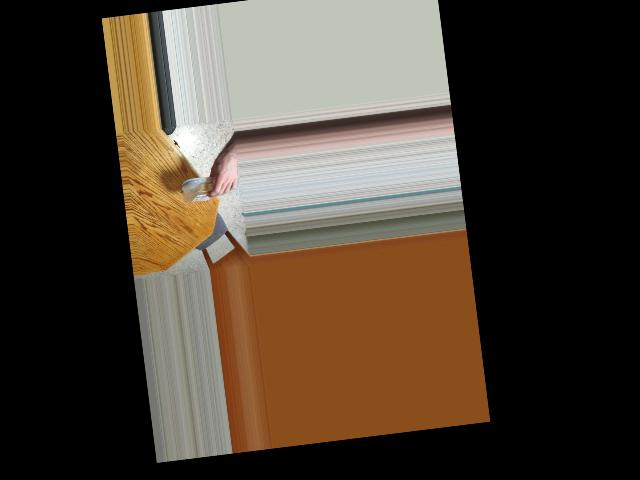cheese: (182, 166, 232, 210)
